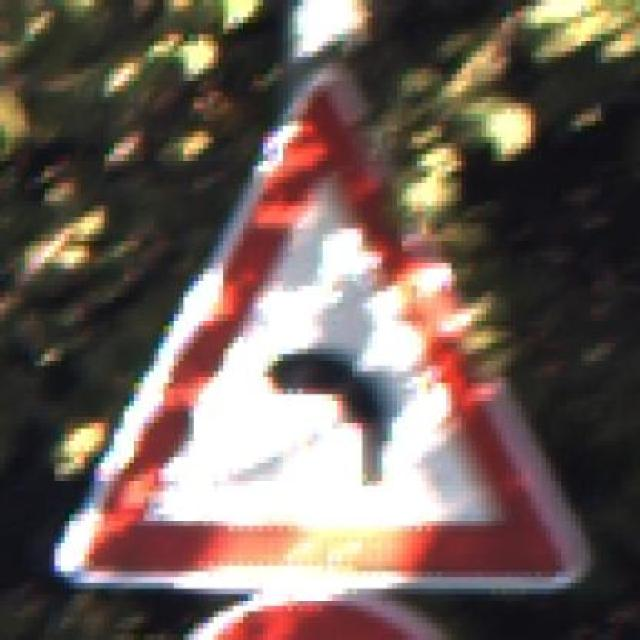Dangerous Left Curve Ahead: (65, 63, 610, 606)
